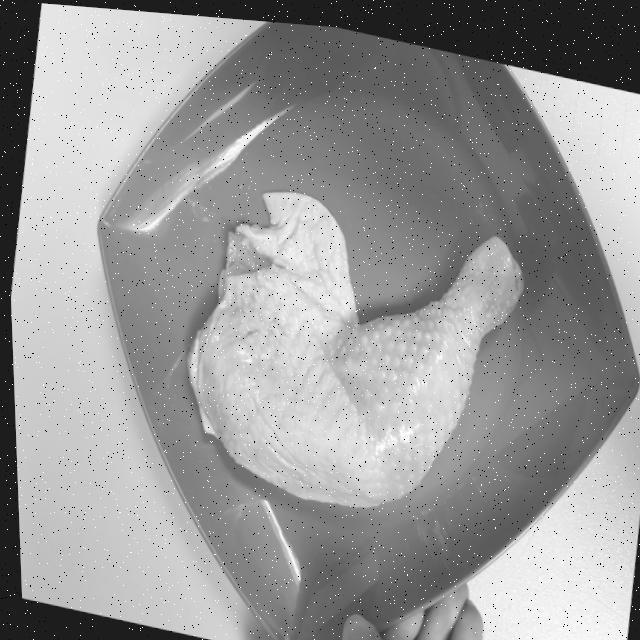quater: (209, 205, 519, 504)
